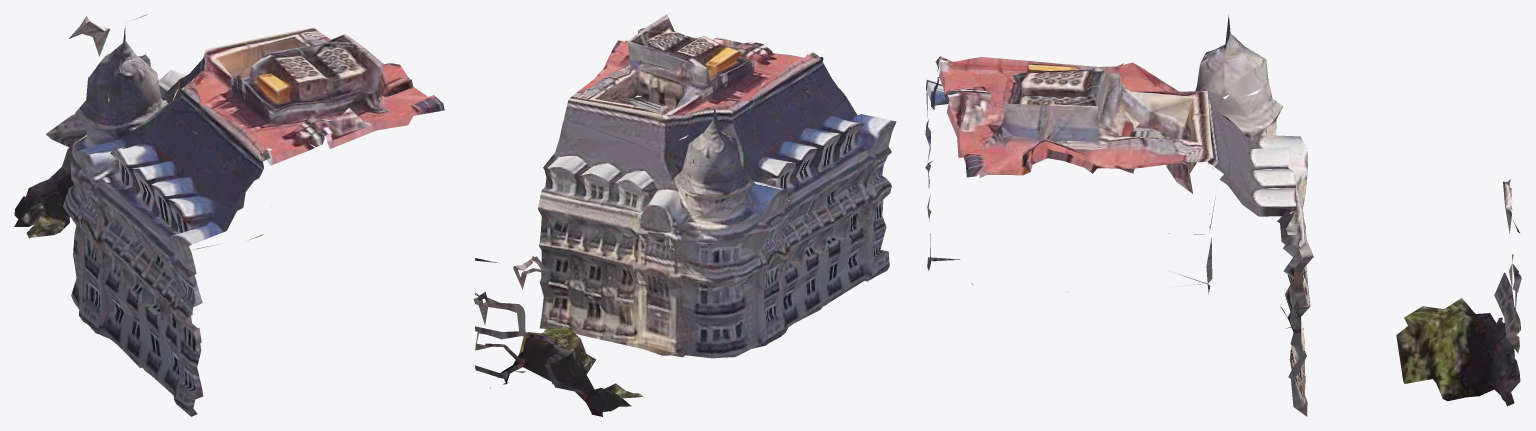
The picture shows the model from 3 angles, left to right: view 1: azimuth 30°, elevation 25°; view 2: azimuth 150°, elevation 25°; view 3: azimuth 270°, elevation 25°; orthographic projection. The views are drawn at different scales.
Parts seen in each view (by area): view 1: Mesh_0; view 2: Mesh_0; view 3: Mesh_0.
Part boxes in pixels (<box>): Mesh_0: <box>14,14,444,416</box>; Mesh_0: <box>473,14,896,416</box>; Mesh_0: <box>925,14,1521,416</box>.
Bounding box in the file's own units: 24.81 × 23.78 × 40.98.
1 material, 1 textured.
